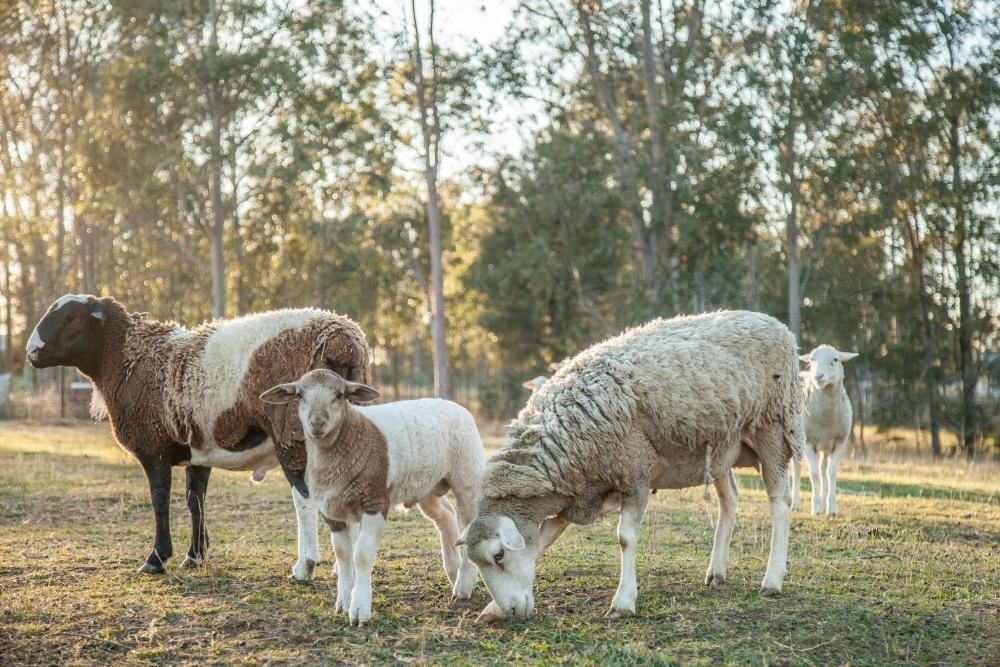sheep: (471, 290, 801, 634), (26, 270, 376, 581), (293, 372, 494, 612), (776, 323, 889, 534)
